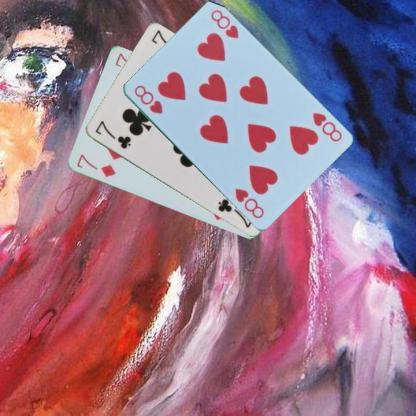7c: (92, 118, 132, 150)
7d: (74, 152, 117, 178)
8h: (309, 109, 343, 143), (131, 82, 164, 115)
